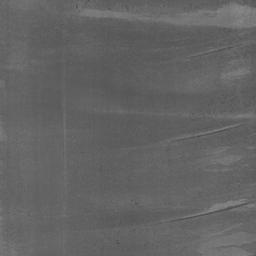Crease: (130, 199, 250, 228), (125, 123, 241, 151), (186, 43, 246, 61)
